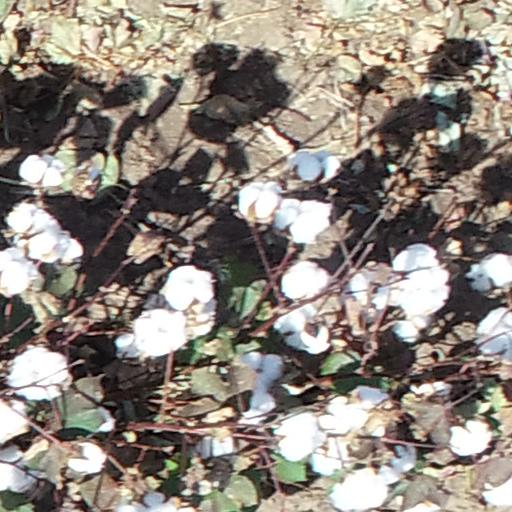Boll: (8, 351, 68, 402), (239, 352, 282, 409), (164, 264, 217, 309), (394, 243, 443, 290), (334, 470, 388, 512), (133, 310, 188, 350), (391, 278, 444, 319), (274, 197, 325, 239), (27, 228, 84, 263), (277, 414, 323, 457), (280, 310, 327, 352), (467, 252, 512, 295), (352, 264, 398, 305), (476, 308, 512, 359), (238, 181, 282, 222), (352, 387, 390, 433), (2, 247, 38, 295), (11, 203, 60, 238), (283, 260, 329, 297), (318, 393, 363, 430), (20, 153, 65, 188), (2, 450, 37, 494), (293, 150, 339, 183), (451, 417, 489, 456), (314, 440, 357, 472), (71, 437, 106, 475), (477, 467, 512, 502), (184, 301, 215, 336), (2, 397, 24, 438)
